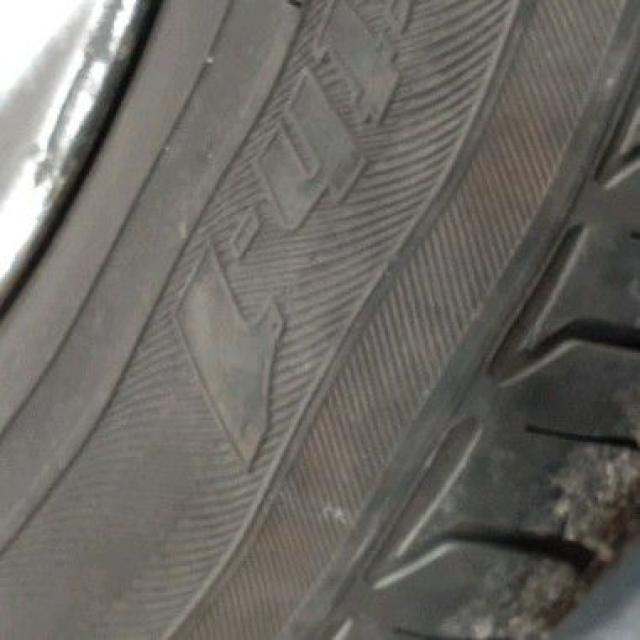Bulge: (112, 242, 548, 526)
